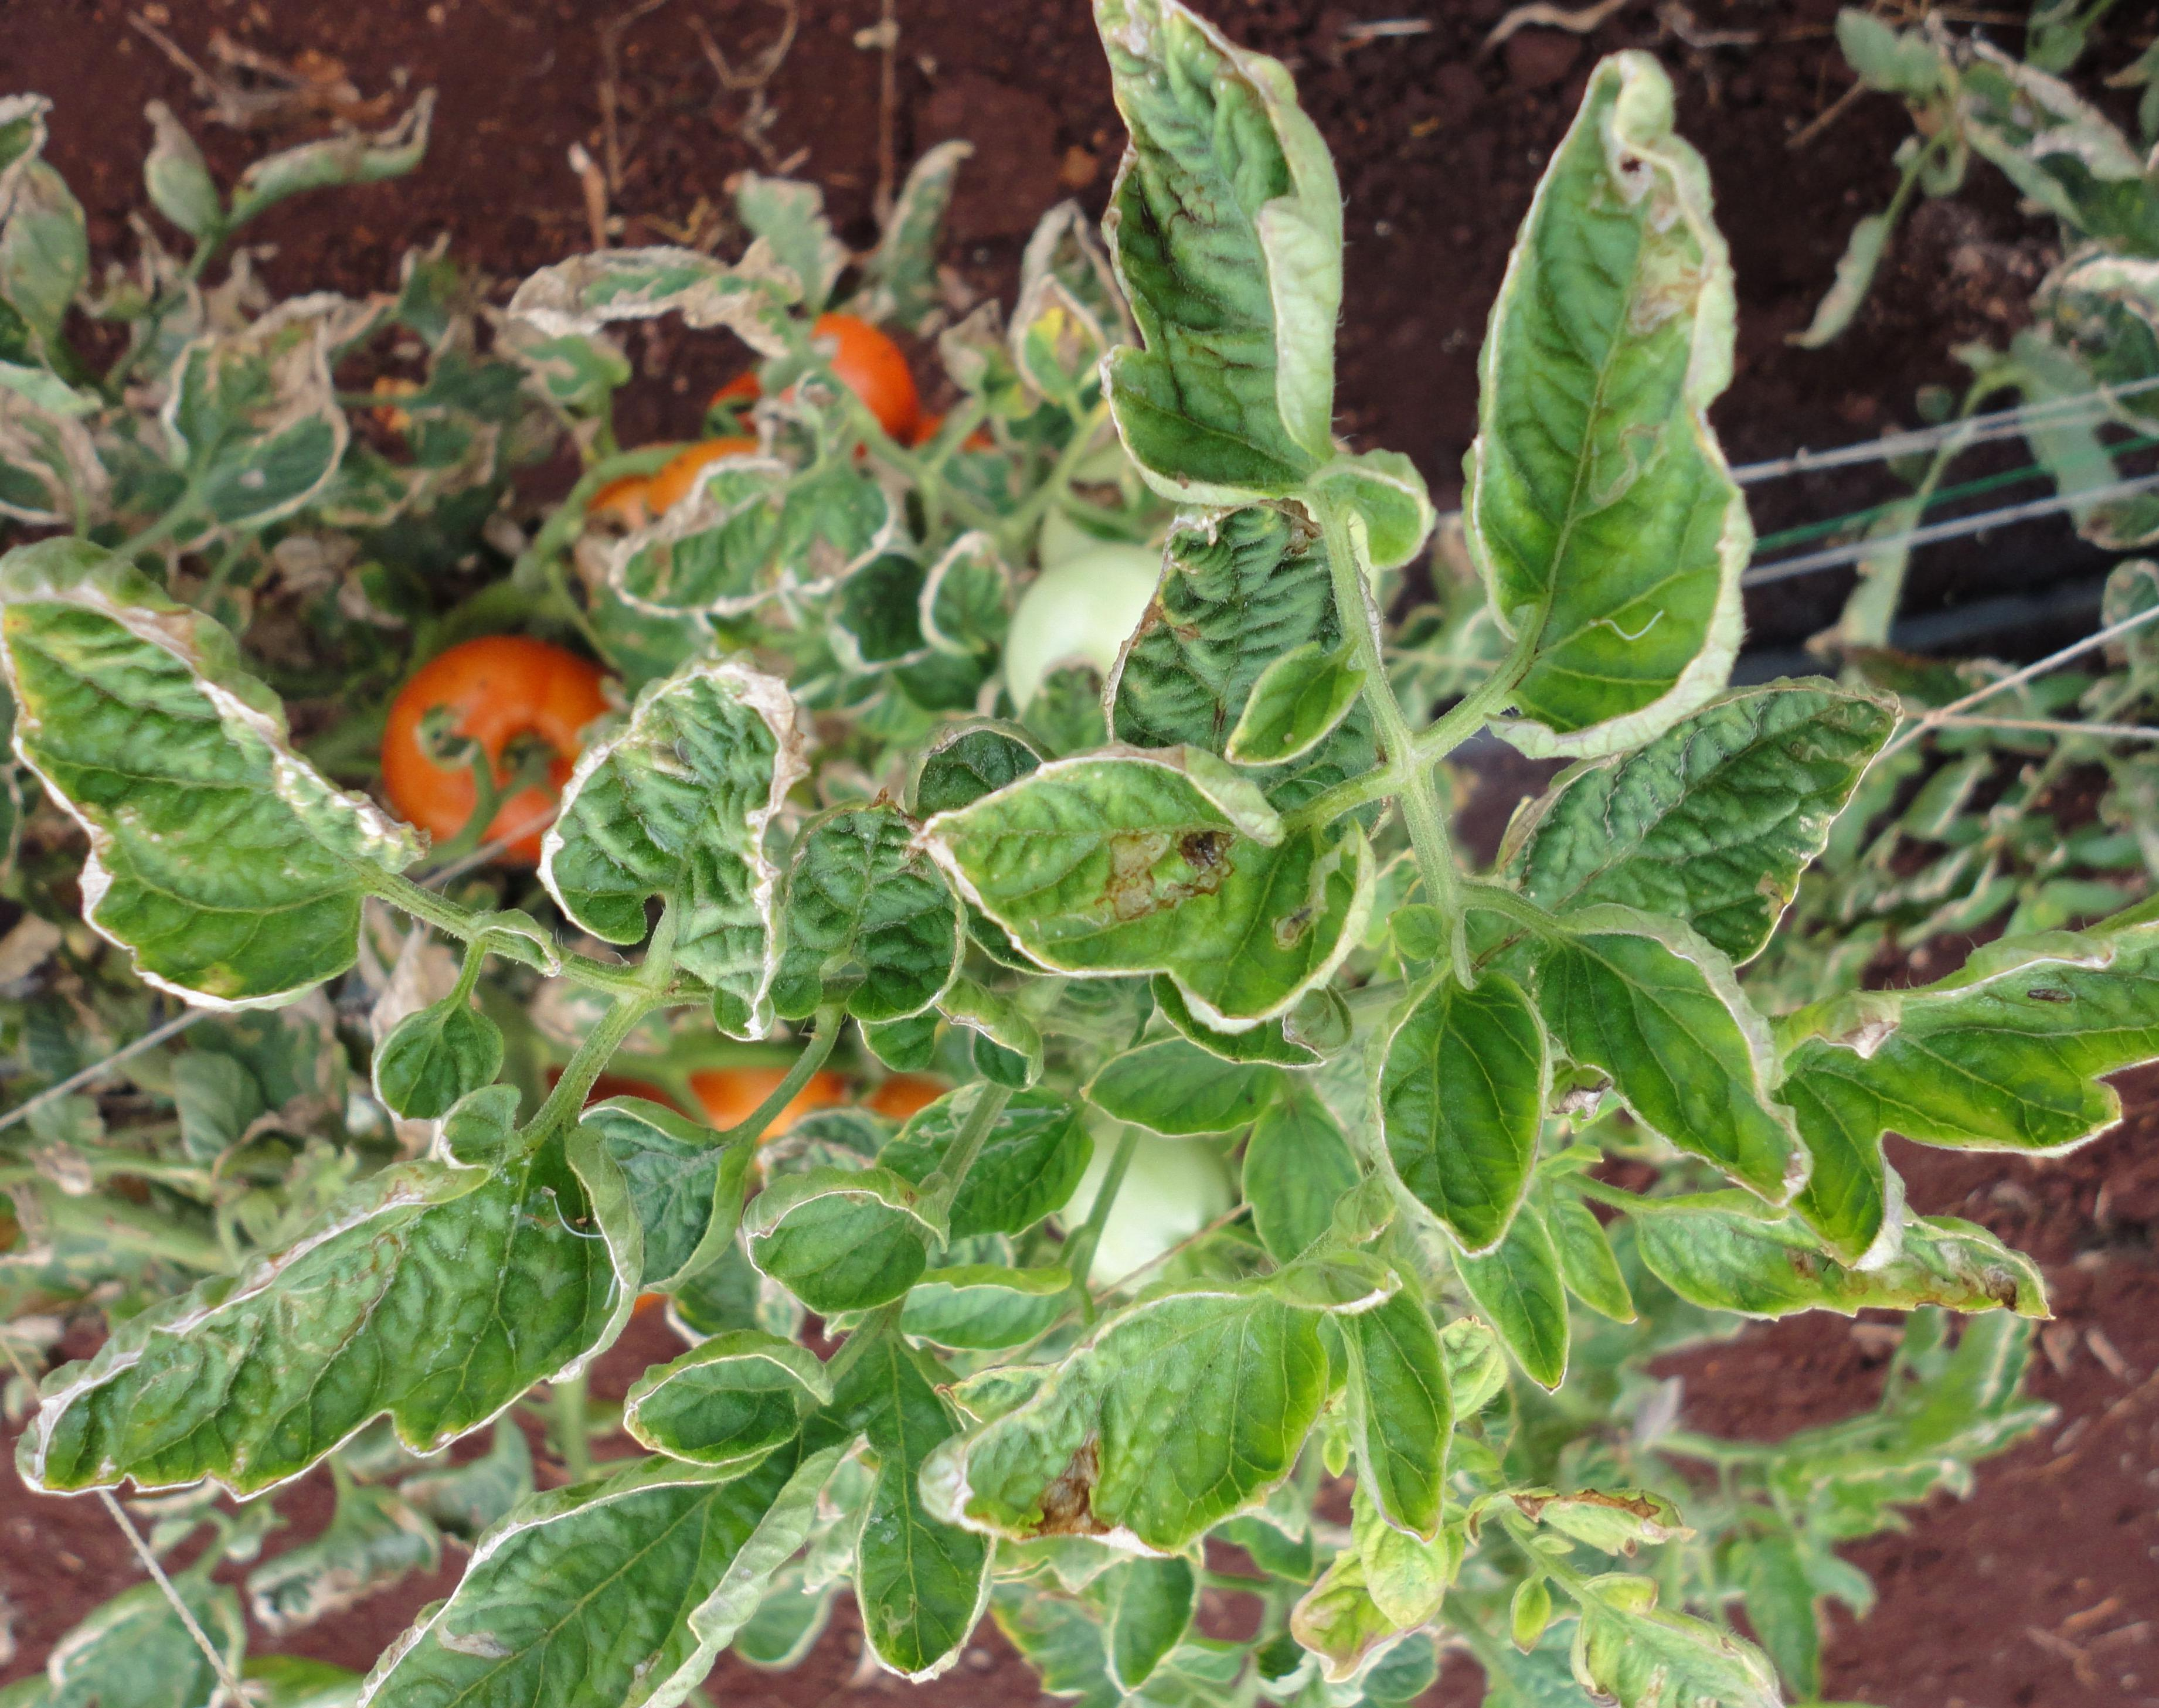Tomato leaf yellow virus: (293, 1281, 1004, 1708), (995, 0, 1462, 554), (901, 1198, 1498, 1596), (0, 1165, 680, 1512), (1455, 68, 1782, 778), (0, 496, 412, 1027), (1763, 766, 2159, 1310), (901, 750, 1381, 1107), (510, 522, 820, 1048), (1542, 921, 1893, 1225), (1356, 965, 1632, 1274)
